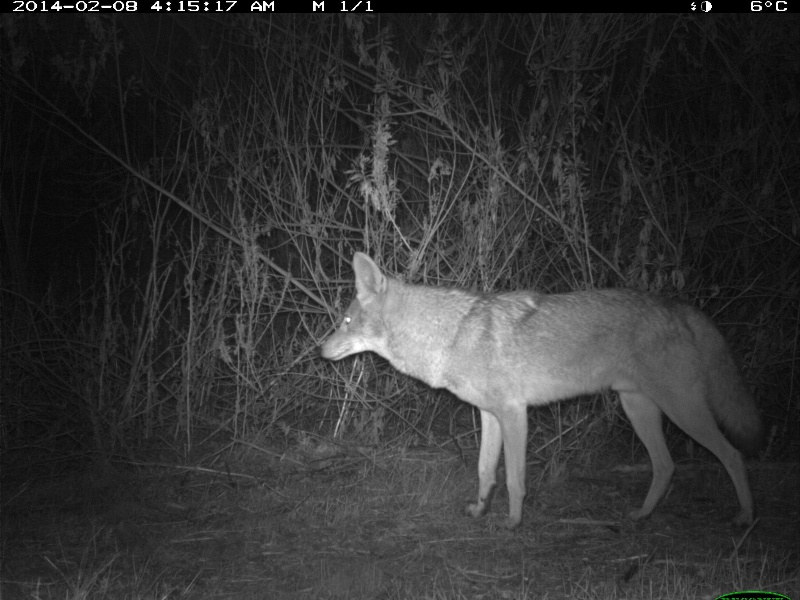coyote: (316, 251, 770, 540)
